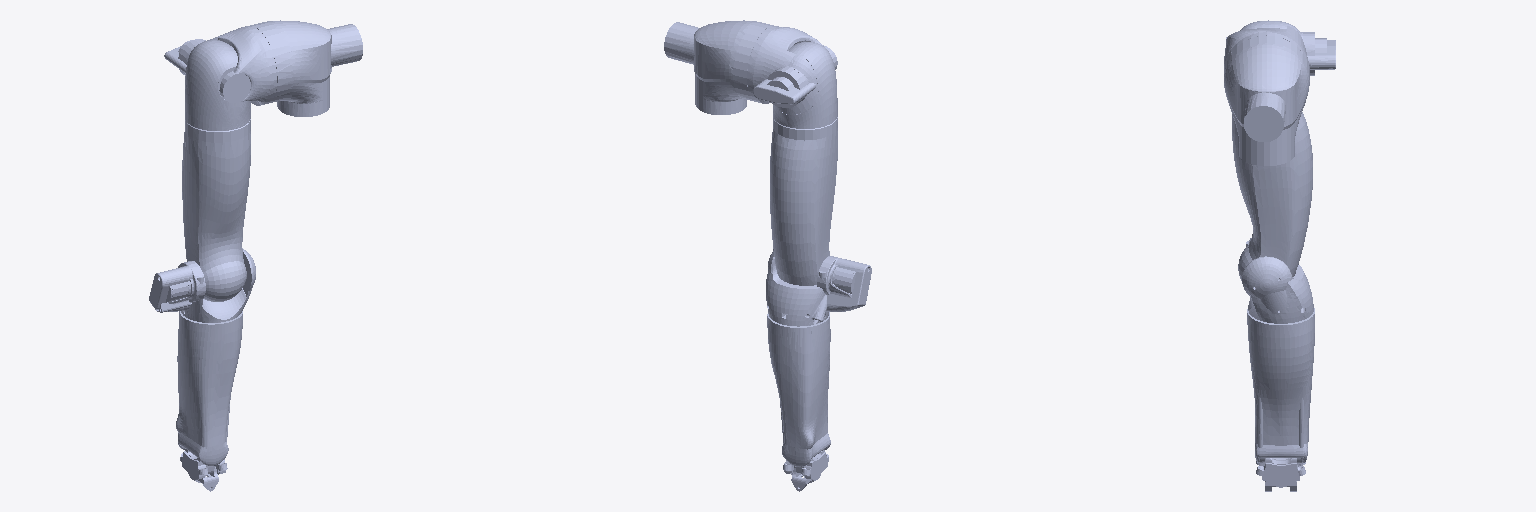
robot.urdf — URDF_Complete_Arm_44e.SLDASM:
<?xml version="1.0" encoding="utf-8"?>
<!-- This URDF was automatically created by SolidWorks to URDF Exporter! Originally created by [author] ([email redacted]) 
     Commit Version: 1.6.0-1-g15f4949  Build Version: 1.6.7594.29634
     For more information, please see http://wiki.ros.org/sw_urdf_exporter -->
<robot
  name="URDF_Complete_Arm_44e.SLDASM">
  <link
    name="Chest">
    <inertial>
      <origin
        xyz="0.0486539170160646 -0.0158260558409493 0.000849227187303221"
        rpy="0 0 0" />
      <mass
        value="0.384797133375516" />
      <inertia
        ixx="0.000827350308515422"
        ixy="2.51172274158082E-05"
        ixz="-1.35395876461972E-05"
        iyy="0.00102321616014153"
        iyz="-5.76631141263241E-06"
        izz="0.00129444186345337" />
    </inertial>
    <visual>
      <origin
        xyz="0 0 0"
        rpy="0 0 0" />
      <geometry>
        <mesh
          filename="package://URDF_Complete_Arm_44e.SLDASM/meshes/Chest.STL" />
      </geometry>
      <material
        name="">
        <color
          rgba="0.792156862745098 0.819607843137255 0.933333333333333 1" />
      </material>
    </visual>
    <collision>
      <origin
        xyz="0 0 0"
        rpy="0 0 0" />
      <geometry>
        <mesh
          filename="package://URDF_Complete_Arm_44e.SLDASM/meshes/Chest.STL" />
      </geometry>
    </collision>
  </link>
  <link
    name="Shoulder_Pivot">
    <inertial>
      <origin
        xyz="0.0472660352040359 -0.0137375443600315 0.00283006638351754"
        rpy="0 0 0" />
      <mass
        value="0.517073056378261" />
      <inertia
        ixx="0.000953203129770561"
        ixy="0.000270991772409371"
        ixz="1.04047661559669E-05"
        iyy="0.000795650582426599"
        iyz="-4.51441680250378E-05"
        izz="0.00116803621428185" />
    </inertial>
    <visual>
      <origin
        xyz="0 0 0"
        rpy="0 0 0" />
      <geometry>
        <mesh
          filename="package://URDF_Complete_Arm_44e.SLDASM/meshes/Shoulder_Pivot.STL" />
      </geometry>
      <material
        name="">
        <color
          rgba="0.792156862745098 0.819607843137255 0.933333333333333 1" />
      </material>
    </visual>
    <collision>
      <origin
        xyz="0 0 0"
        rpy="0 0 0" />
      <geometry>
        <mesh
          filename="package://URDF_Complete_Arm_44e.SLDASM/meshes/Shoulder_Pivot.STL" />
      </geometry>
    </collision>
  </link>
  <joint
    name="Shoulder_Pitch"
    type="continuous">
    <origin
      xyz="0 0 0"
      rpy="0 0 -3.1416" />
    <parent
      link="Chest" />
    <child
      link="Shoulder_Pivot" />
    <axis
      xyz="1 0 0" />
  </joint>
  <link
    name="Shoulder_Hum">
    <inertial>
      <origin
        xyz="-0.000679663769358699 0.00474632088645272 -0.0469193689786717"
        rpy="0 0 0" />
      <mass
        value="0.169315310677218" />
      <inertia
        ixx="0.000277366936156619"
        ixy="8.11081868823706E-07"
        ixz="4.21668920697753E-06"
        iyy="0.000250563922792207"
        iyz="-2.87016786639683E-05"
        izz="0.000182588527261188" />
    </inertial>
    <visual>
      <origin
        xyz="0 0 0"
        rpy="0 0 0" />
      <geometry>
        <mesh
          filename="package://URDF_Complete_Arm_44e.SLDASM/meshes/Shoulder_Hum.STL" />
      </geometry>
      <material
        name="">
        <color
          rgba="0.792156862745098 0.819607843137255 0.933333333333333 1" />
      </material>
    </visual>
    <collision>
      <origin
        xyz="0 0 0"
        rpy="0 0 0" />
      <geometry>
        <mesh
          filename="package://URDF_Complete_Arm_44e.SLDASM/meshes/Shoulder_Hum.STL" />
      </geometry>
    </collision>
  </link>
  <joint
    name="Shoulder_Yaw"
    type="continuous">
    <origin
      xyz="0.0844 0 0"
      rpy="0 0 0" />
    <parent
      link="Shoulder_Pivot" />
    <child
      link="Shoulder_Hum" />
    <axis
      xyz="0 1 0" />
  </joint>
  <link
    name="Upper_Arm">
    <inertial>
      <origin
        xyz="0.000146918760544609 -0.117029355469513 -0.00787431692258475"
        rpy="0 0 0" />
      <mass
        value="1.37733794449701" />
      <inertia
        ixx="0.00748144452872091"
        ixy="-2.33510085584971E-06"
        ixz="3.56837433220179E-06"
        iyy="0.00136578713824918"
        iyz="-0.000191283941090138"
        izz="0.00731931934322511" />
    </inertial>
    <visual>
      <origin
        xyz="0 0 0"
        rpy="0 0 0" />
      <geometry>
        <mesh
          filename="package://URDF_Complete_Arm_44e.SLDASM/meshes/Upper_Arm.STL" />
      </geometry>
      <material
        name="">
        <color
          rgba="0.792156862745098 0.819607843137255 0.933333333333333 1" />
      </material>
    </visual>
    <collision>
      <origin
        xyz="0 0 0"
        rpy="0 0 0" />
      <geometry>
        <mesh
          filename="package://URDF_Complete_Arm_44e.SLDASM/meshes/Upper_Arm.STL" />
      </geometry>
    </collision>
  </link>
  <joint
    name="Shoulder_Roll"
    type="continuous">
    <origin
      xyz="0 -2.4268E-05 -0.065"
      rpy="1.5708 0 3.1416" />
    <parent
      link="Shoulder_Hum" />
    <child
      link="Upper_Arm" />
    <axis
      xyz="0 1 0" />
  </joint>
  <link
    name="Elbow">
    <inertial>
      <origin
        xyz="0.0176518340383924 -0.020125492111251 -0.014865011197171"
        rpy="0 0 0" />
      <mass
        value="0.352345424091274" />
      <inertia
        ixx="0.000649796864235185"
        ixy="-0.000157783983908942"
        ixz="0.000111546097845255"
        iyy="0.000463562555958507"
        iyz="9.03162634461677E-05"
        izz="0.000737266163669184" />
    </inertial>
    <visual>
      <origin
        xyz="0 0 0"
        rpy="0 0 0" />
      <geometry>
        <mesh
          filename="package://URDF_Complete_Arm_44e.SLDASM/meshes/Elbow.STL" />
      </geometry>
      <material
        name="">
        <color
          rgba="0.792156862745098 0.819607843137255 0.933333333333333 1" />
      </material>
    </visual>
    <collision>
      <origin
        xyz="0 0 0"
        rpy="0 0 0" />
      <geometry>
        <mesh
          filename="package://URDF_Complete_Arm_44e.SLDASM/meshes/Elbow.STL" />
      </geometry>
    </collision>
  </link>
  <joint
    name="Arm_Flexion"
    type="continuous">
    <origin
      xyz="0 -0.237 0"
      rpy="0.04017 -0.17997 -1.3417" />
    <parent
      link="Upper_Arm" />
    <child
      link="Elbow" />
    <axis
      xyz="0.22339 0.97146 -0.07972" />
  </joint>
  <link
    name="Forearm">
    <inertial>
      <origin
        xyz="0.00133747937450716 -0.00599370747357174 0.0942985460788799"
        rpy="0 0 0" />
      <mass
        value="0.846416236459816" />
      <inertia
        ixx="0.00299895167204582"
        ixy="9.27955916697098E-06"
        ixz="-1.47942653231755E-05"
        iyy="0.00307229073678094"
        iyz="0.000202544670567948"
        izz="0.000673642046176671" />
    </inertial>
    <visual>
      <origin
        xyz="0 0 0"
        rpy="0 0 0" />
      <geometry>
        <mesh
          filename="package://URDF_Complete_Arm_44e.SLDASM/meshes/Forearm.STL" />
      </geometry>
      <material
        name="">
        <color
          rgba="0.792156862745098 0.819607843137255 0.933333333333333 1" />
      </material>
    </visual>
    <collision>
      <origin
        xyz="0 0 0"
        rpy="0 0 0" />
      <geometry>
        <mesh
          filename="package://URDF_Complete_Arm_44e.SLDASM/meshes/Forearm.STL" />
      </geometry>
    </collision>
  </link>
  <joint
    name="Wrist_Roll"
    type="continuous">
    <origin
      xyz="0.054818 -0.014646 -0.027856"
      rpy="-2.6917 1.3864 -2.9243" />
    <parent
      link="Elbow" />
    <child
      link="Forearm" />
    <axis
      xyz="0 0 1" />
  </joint>
  <link
    name="Wrist_Proximal">
    <inertial>
      <origin
        xyz="-5.2410298736344E-08 -0.01879886659832 -9.94505815060664E-08"
        rpy="0 0 0" />
      <mass
        value="0.0403794380308226" />
      <inertia
        ixx="1.22218350360084E-05"
        ixy="1.1925341865885E-11"
        ixz="-1.39543986184932E-11"
        iyy="1.64063420282494E-05"
        iyz="2.47555453996151E-11"
        izz="1.35060026796524E-05" />
    </inertial>
    <visual>
      <origin
        xyz="0 0 0"
        rpy="0 0 0" />
      <geometry>
        <mesh
          filename="package://URDF_Complete_Arm_44e.SLDASM/meshes/Wrist_Proximal.STL" />
      </geometry>
      <material
        name="">
        <color
          rgba="0.792156862745098 0.819607843137255 0.933333333333333 1" />
      </material>
    </visual>
    <collision>
      <origin
        xyz="0 0 0"
        rpy="0 0 0" />
      <geometry>
        <mesh
          filename="package://URDF_Complete_Arm_44e.SLDASM/meshes/Wrist_Proximal.STL" />
      </geometry>
    </collision>
  </link>
  <joint
    name="Wrist_Pitch_01"
    type="continuous">
    <origin
      xyz="0 -0.012 0.20395"
      rpy="-1.5708 0 0" />
    <parent
      link="Forearm" />
    <child
      link="Wrist_Proximal" />
    <axis
      xyz="1 0 0" />
  </joint>
  <link
    name="Wrist_Distal">
    <inertial>
      <origin
        xyz="2.10547095695623E-08 0.00549455984932445 -9.61281902689404E-09"
        rpy="0 0 0" />
      <mass
        value="0.019964820760825" />
      <inertia
        ixx="3.01025349721734E-06"
        ixy="-4.97878188646849E-12"
        ixz="-6.51661357442016E-12"
        iyy="3.40653141264907E-06"
        iyz="3.36339839733877E-13"
        izz="4.32184061652863E-06" />
    </inertial>
    <visual>
      <origin
        xyz="0 0 0"
        rpy="0 0 0" />
      <geometry>
        <mesh
          filename="package://URDF_Complete_Arm_44e.SLDASM/meshes/Wrist_Distal.STL" />
      </geometry>
      <material
        name="">
        <color
          rgba="0.792156862745098 0.819607843137255 0.933333333333333 1" />
      </material>
    </visual>
    <collision>
      <origin
        xyz="0 0 0"
        rpy="0 0 0" />
      <geometry>
        <mesh
          filename="package://URDF_Complete_Arm_44e.SLDASM/meshes/Wrist_Distal.STL" />
      </geometry>
    </collision>
  </link>
  <joint
    name="Wrist_Yaw"
    type="continuous">
    <origin
      xyz="0 -0.029 0"
      rpy="3.1416 0 0" />
    <parent
      link="Wrist_Proximal" />
    <child
      link="Wrist_Distal" />
    <axis
      xyz="0 0 1" />
  </joint>
</robot>

--- Facts derived from the render (not from the file) ---
The picture shows the robot from 3 angles, left to right: view 1: azimuth 30°, elevation 25°; view 2: azimuth 150°, elevation 25°; view 3: azimuth 270°, elevation 25°; orthographic projection.
Robot: URDF_Complete_Arm_44e.SLDASM — 8 links, 7 joints (7 continuous); root link Chest; default pose: every joint at zero.
Visible links, largest first — view 1: Upper_Arm, Forearm, Chest, Shoulder_Hum, Elbow, Shoulder_Pivot, Wrist_Proximal; view 2: Upper_Arm, Forearm, Chest, Elbow, Shoulder_Pivot, Shoulder_Hum, Wrist_Proximal; view 3: Chest, Forearm, Upper_Arm, Elbow, Shoulder_Pivot, Wrist_Proximal.
Boxes of the visible links, bbox=[...] form: Upper_Arm: bbox=[182, 119, 250, 301]; Forearm: bbox=[176, 311, 242, 465]; Chest: bbox=[250, 20, 362, 116]; Shoulder_Hum: bbox=[185, 40, 250, 130]; Elbow: bbox=[149, 248, 255, 322]; Shoulder_Pivot: bbox=[164, 26, 276, 105]; Wrist_Proximal: bbox=[180, 449, 227, 480]; Upper_Arm: bbox=[770, 117, 837, 285]; Forearm: bbox=[767, 312, 830, 466]; Chest: bbox=[664, 20, 773, 114]; Elbow: bbox=[766, 250, 871, 326]; Shoulder_Pivot: bbox=[747, 26, 837, 114]; Shoulder_Hum: bbox=[773, 42, 837, 128]; Wrist_Proximal: bbox=[783, 450, 828, 480]; Chest: bbox=[1224, 36, 1309, 165]; Forearm: bbox=[1247, 308, 1314, 463]; Upper_Arm: bbox=[1232, 112, 1312, 280]; Elbow: bbox=[1242, 234, 1313, 323]; Shoulder_Pivot: bbox=[1224, 23, 1335, 75]; Wrist_Proximal: bbox=[1256, 458, 1305, 487].
Bounding box of the posed robot: 0.3119 × 0.1439 × 0.6788 m (x, y, z).
8 mesh visuals loaded from 8 distinct referenced files (8 binary STL).